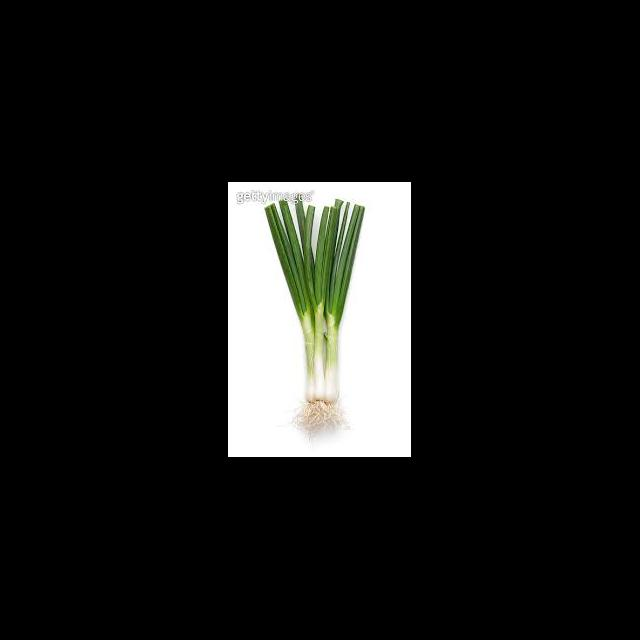green_onion: (264, 202, 372, 446)
